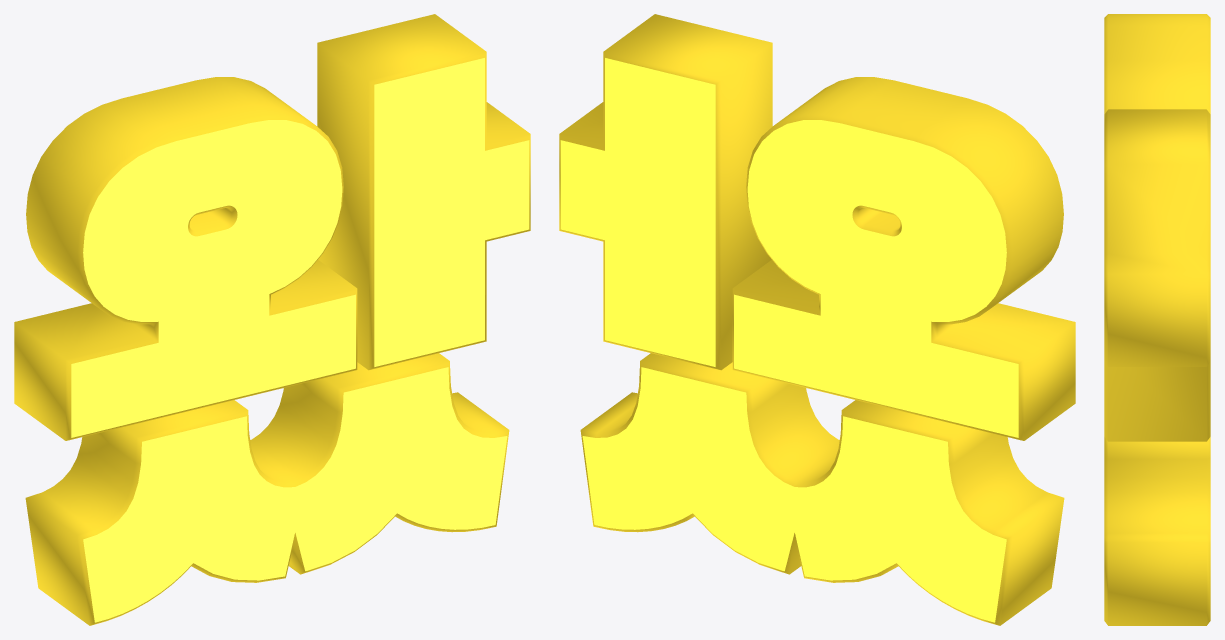
3 views of the same model, side by side, from view 1: azimuth 30°, elevation 25°; view 2: azimuth 150°, elevation 25°; view 3: azimuth 270°, elevation 25° (orthographic). The views are drawn at different scales.
Visible parts, largest first — view 1: glyph; view 2: glyph; view 3: glyph.
Boxes of the visible parts, x1,y1,x2,y2 form: glyph: (14,14,530,625); glyph: (559,14,1075,625); glyph: (1104,14,1210,625).
Size of the model in its own units: 0.0783 by 0.0768 by 0.0162.
